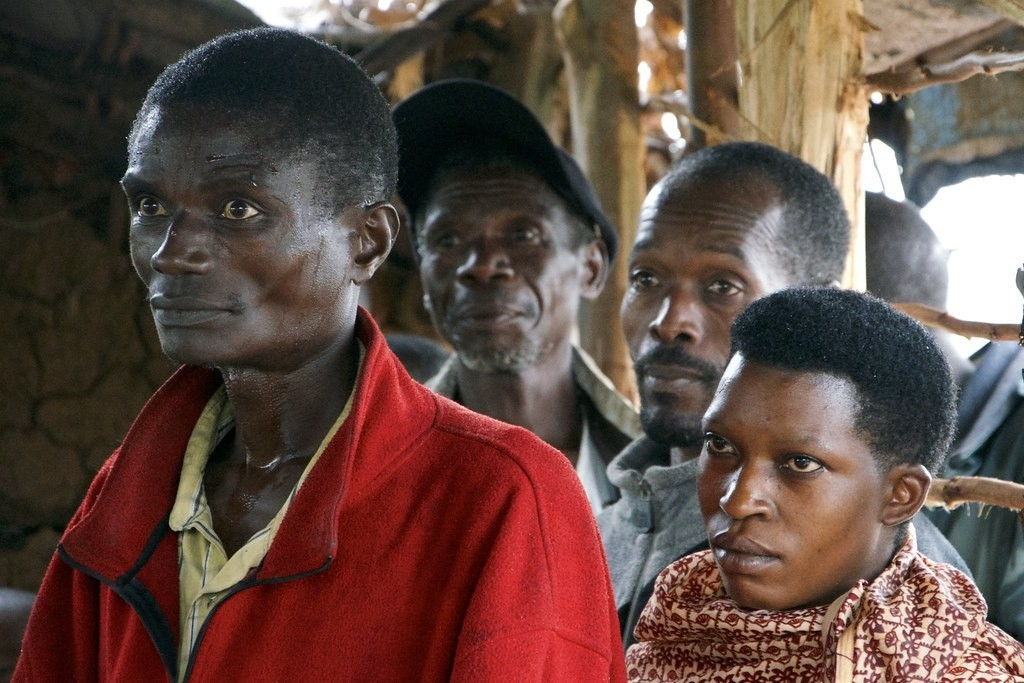face_no_mask: (123, 56, 367, 361), (692, 316, 898, 604), (413, 130, 594, 365), (617, 168, 773, 429)
